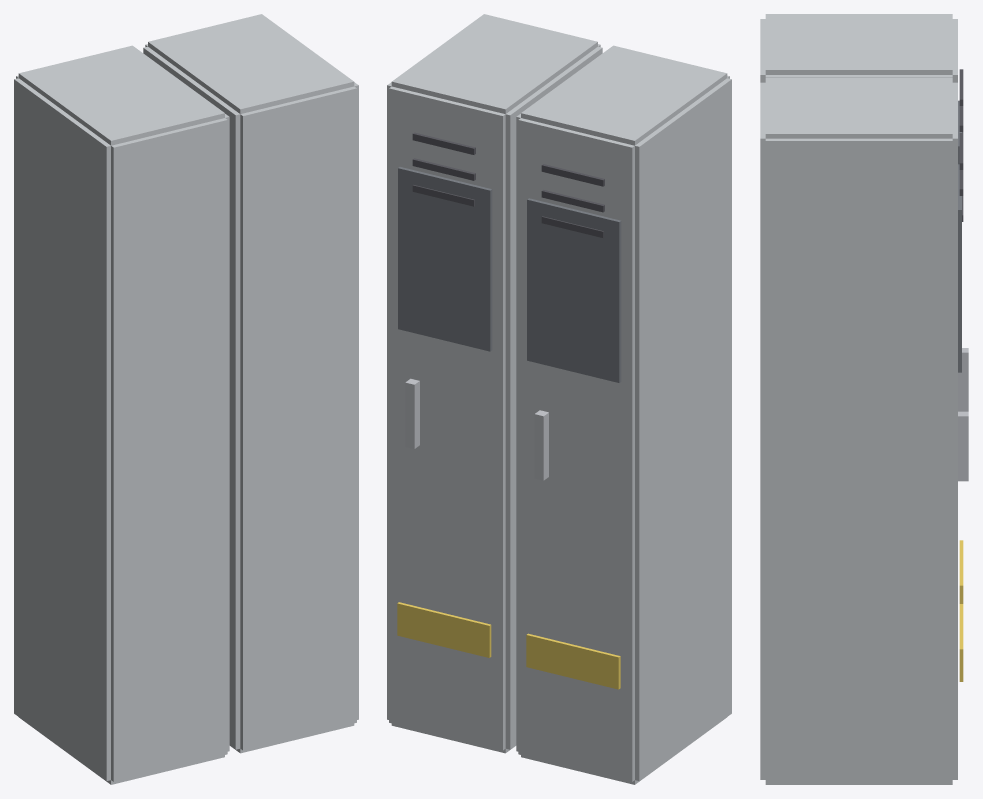
Rendered from base_locker.fbx.
The picture shows the model from 3 angles, left to right: view 1: azimuth 30°, elevation 25°; view 2: azimuth 150°, elevation 25°; view 3: azimuth 270°, elevation 25°; orthographic projection.
Parts seen in each view (by area): view 1: base_locker; view 2: base_locker; view 3: base_locker.
Part boxes in pixels (x1,y1,x2,y2): base_locker: (14, 14, 358, 784); base_locker: (387, 14, 731, 784); base_locker: (760, 14, 968, 784).
Bounding box in the file's own units: 0.82 × 2 × 0.58.
